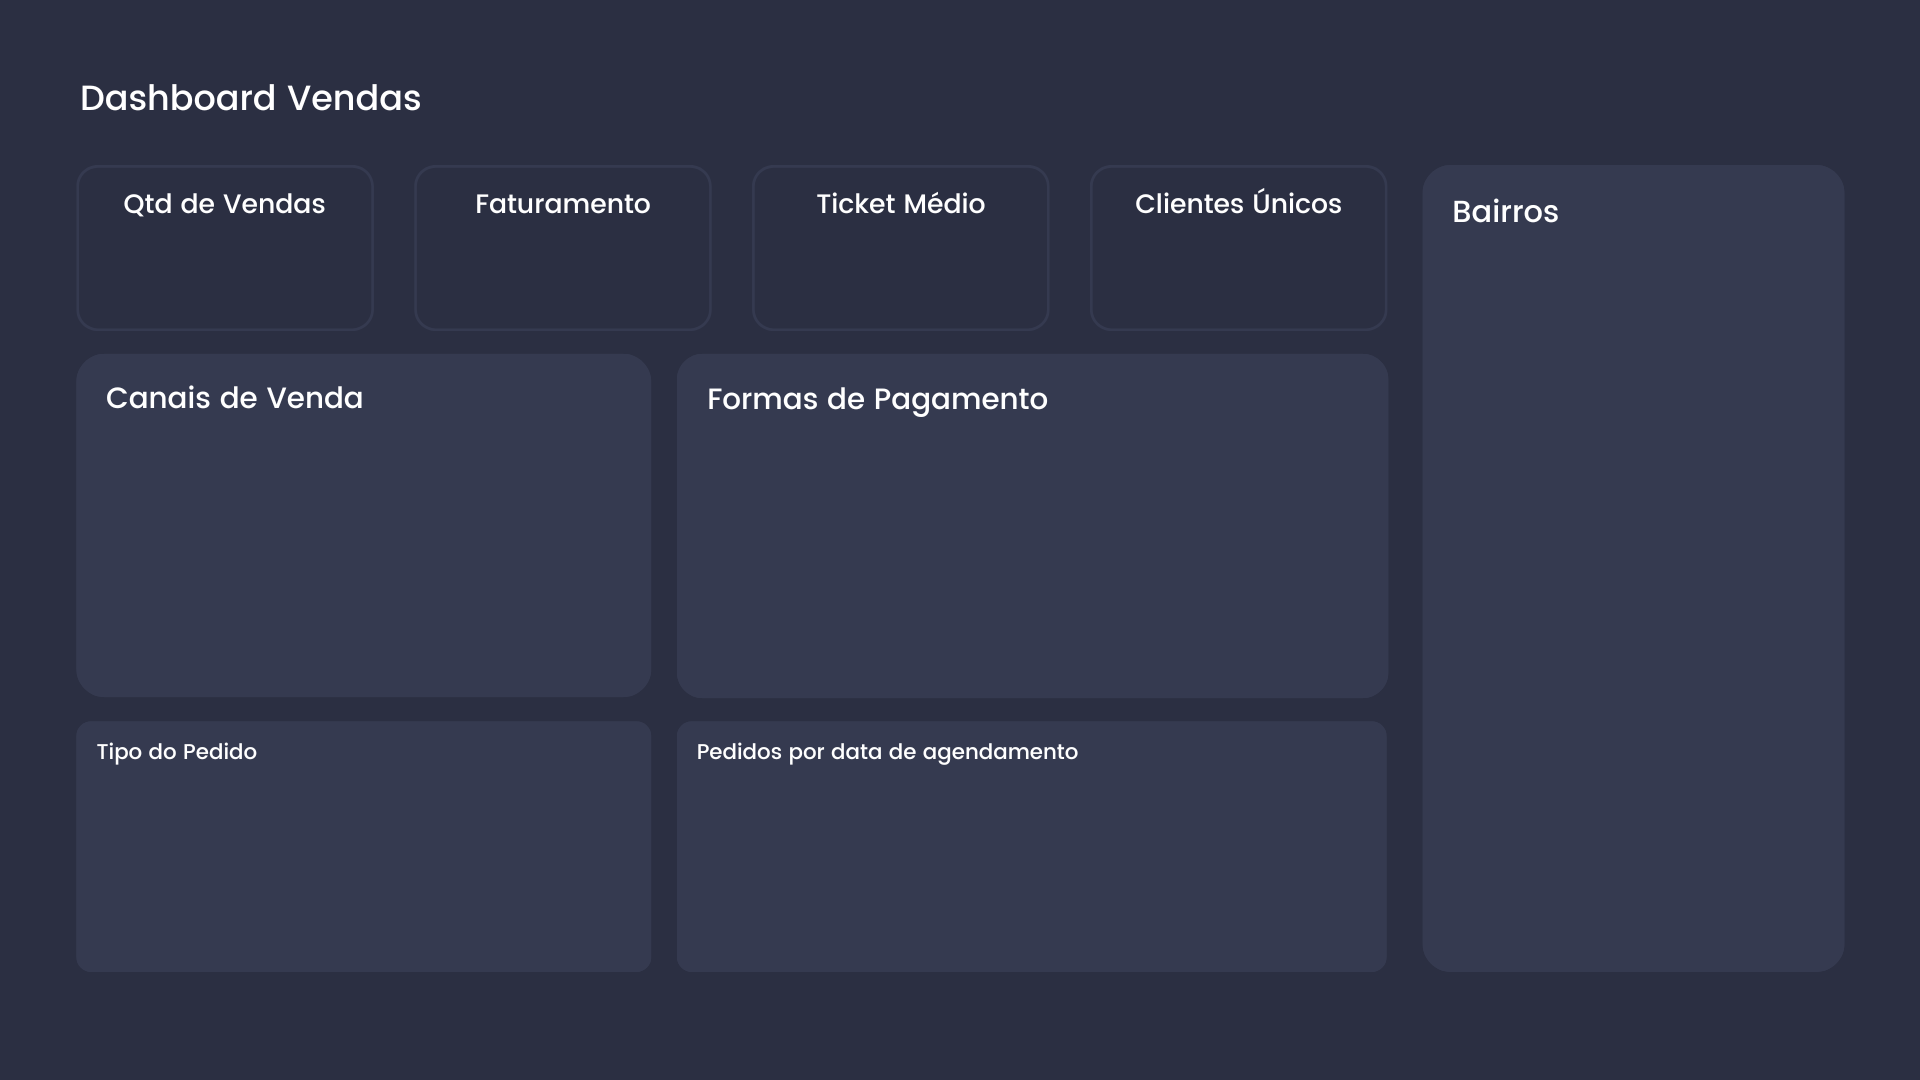

This screenshot's page, from the dashboard's own definition file:
{"tool":"powerbi","page":{"name":"Página 1","canvas":[1920,1080],"ordinal":0},"visuals":[{"type":"donutChart","title":"Canais de Venda","fields":{"Y":["CountNonNull(Orders.Canal)"],"Category":["Orders.Canal"]},"box":[16.2,401.2,628.8,276.2],"z":0},{"type":"card","title":"Faturamento","fields":{"Values":["Orders.Faturamento"]},"box":[433.8,198.8,260,127.5],"z":1000},{"type":"clusteredBarChart","fields":{"Category":["Orders.Método de pagamento"],"Y":["CountNonNull(Orders.Método de pagamento)"]},"box":[673.8,412.5,723.8,276.2],"z":2000},{"type":"card","fields":{"Values":["Orders.qtd_pedidos"]},"box":[121.2,210,205,103.8],"z":3000},{"type":"card","fields":{"Values":["Orders.ticket_medio"]},"box":[781.2,217.5,237.5,90],"z":4000},{"type":"card","fields":{"Values":["Orders.clientes_unicos"]},"box":[1121.2,212.5,233.8,100],"z":5000},{"type":"tableEx","fields":{"Values":["Orders.Bairro","Orders.qtd_pedidos"]},"box":[1438,224,390,728],"z":6000},{"type":"image","box":[1568.3,61.7,286.7,70],"z":7000},{"type":"funnel","fields":{"Category":["Orders.Tipo"],"Y":["CountNonNull(Orders.Tipo)"]},"box":[97.1,758.6,537.1,207.1],"z":8000},{"type":"lineChart","fields":{"Category":["Orders.Data do agendamento.Variation.Hierarquia de datas.Mês","Orders.Data do agendamento.Variation.Hierarquia de datas.Dia"],"Y":["Orders.qtd_pedidos"]},"box":[687.1,740,687.1,220],"z":9000}]}

Visuals, with their boxes in screenshot pixels (x1, y1, x2, y2), scaled from the page's 1920x1080 canvas onto the 1920x1080 screenshot:
"Canais de Venda" donutChart: [16, 401, 645, 677]
"Faturamento" card: [434, 199, 694, 326]
clusteredBarChart - Orders.Método de pagamento x CountNonNull(Orders.Método de pagamento): [674, 412, 1398, 689]
card - Orders.qtd_pedidos: [121, 210, 326, 314]
card - Orders.ticket_medio: [781, 218, 1019, 308]
card - Orders.clientes_unicos: [1121, 212, 1355, 312]
tableEx - Orders.Bairro x Orders.qtd_pedidos: [1438, 224, 1828, 952]
image: [1568, 62, 1855, 132]
funnel - Orders.Tipo x CountNonNull(Orders.Tipo): [97, 759, 634, 966]
lineChart - Orders.Data do agendamento.Variation.Hierarquia de datas.Mês x Orders.Data do agendamento.Variation.Hierarquia de datas.Dia: [687, 740, 1374, 960]
